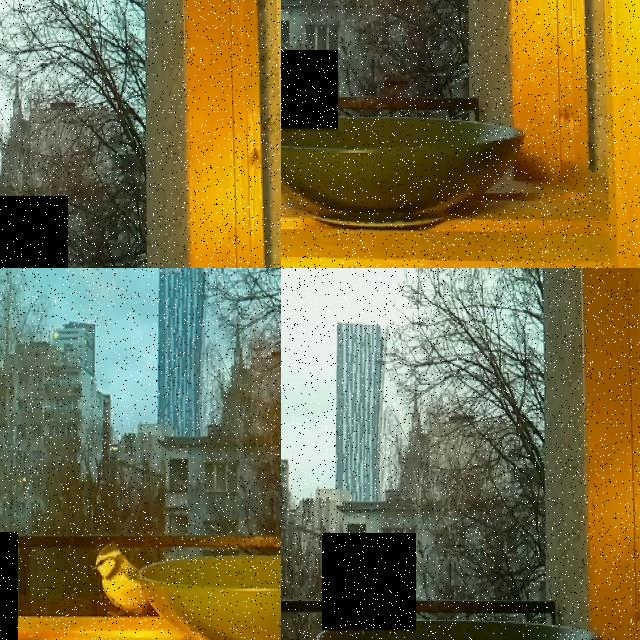Bogatka: (322, 533, 416, 630)
Modraszka: (89, 536, 158, 620), (281, 50, 338, 130)
Wrobel: (0, 196, 68, 268)
